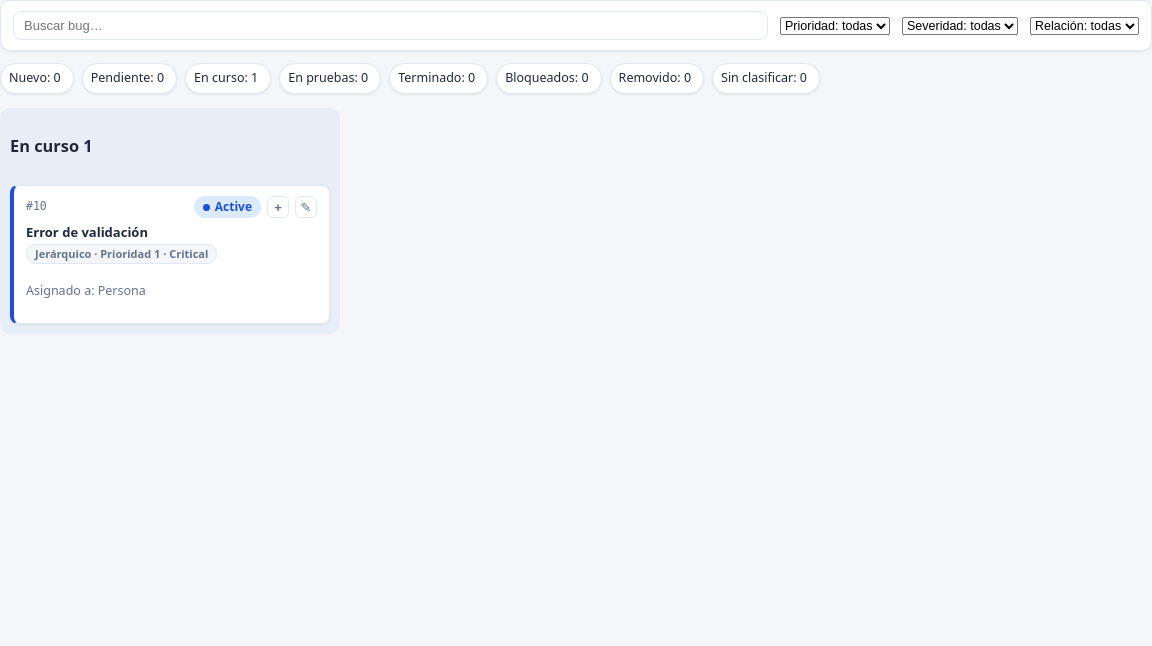
TableroBugs › envía el PATCH con los campos tocados al guardar
Step 1. Click the button named "editar bug #10 (qa)" → (306, 207), box [295, 196, 317, 218]
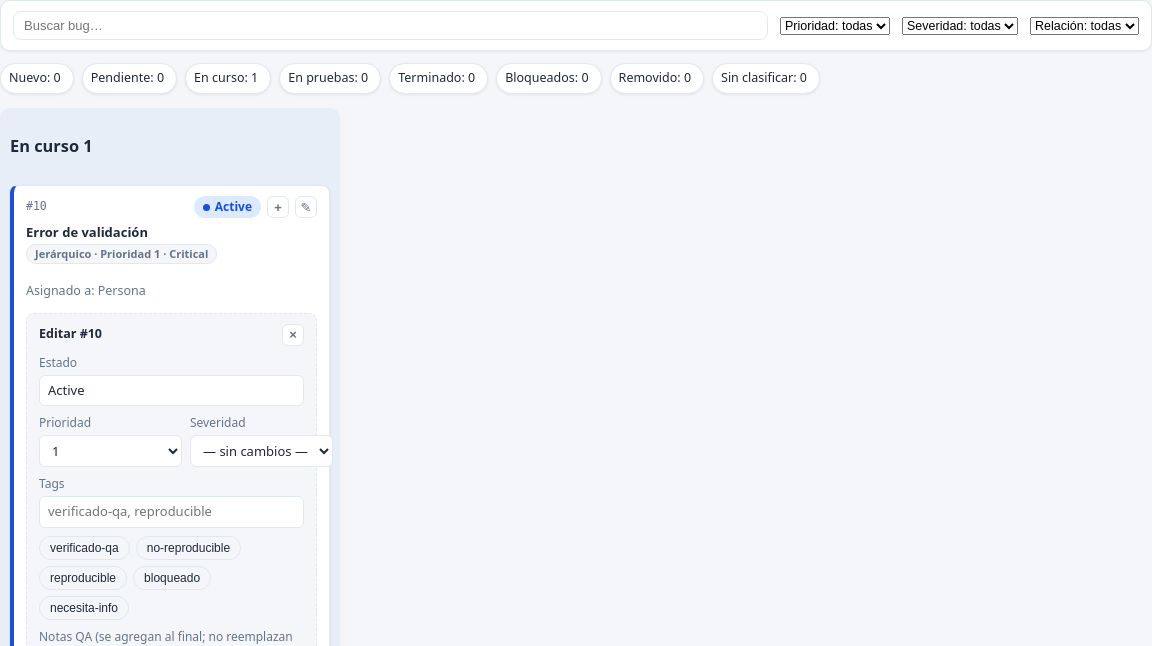
Step 2. Click the button "verificado-qa" → (84, 548), box [39, 536, 130, 560]
(page scrolled)
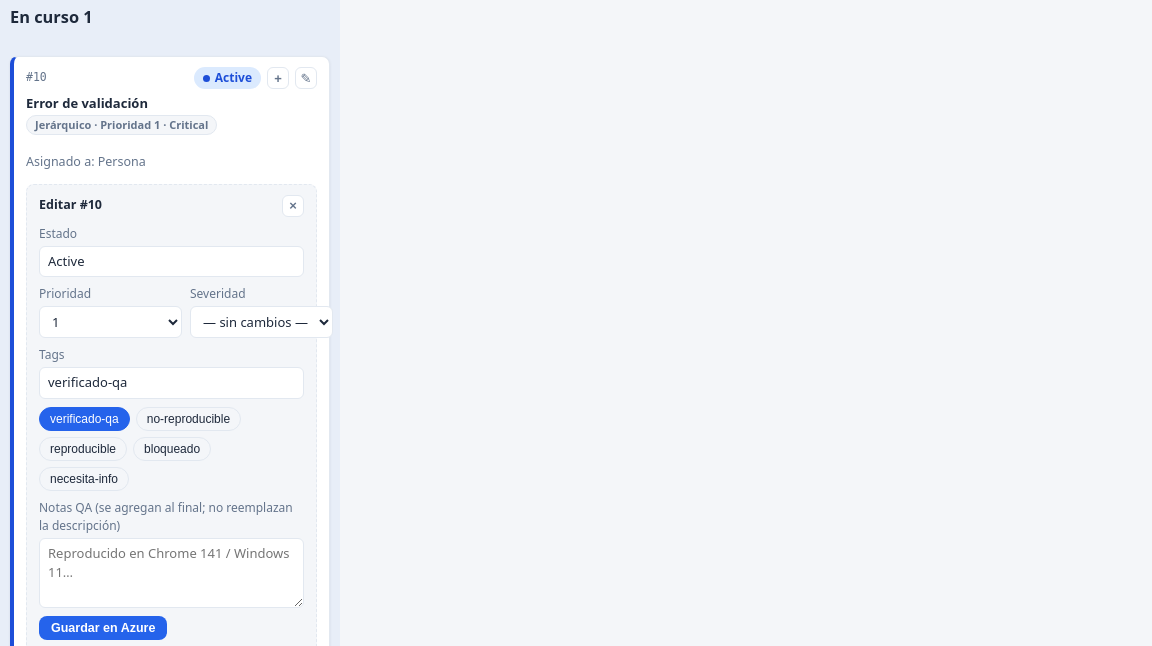
Step 3. Click the button "Guardar en Azure" → (103, 628), box [39, 616, 167, 640]
(page scrolled)
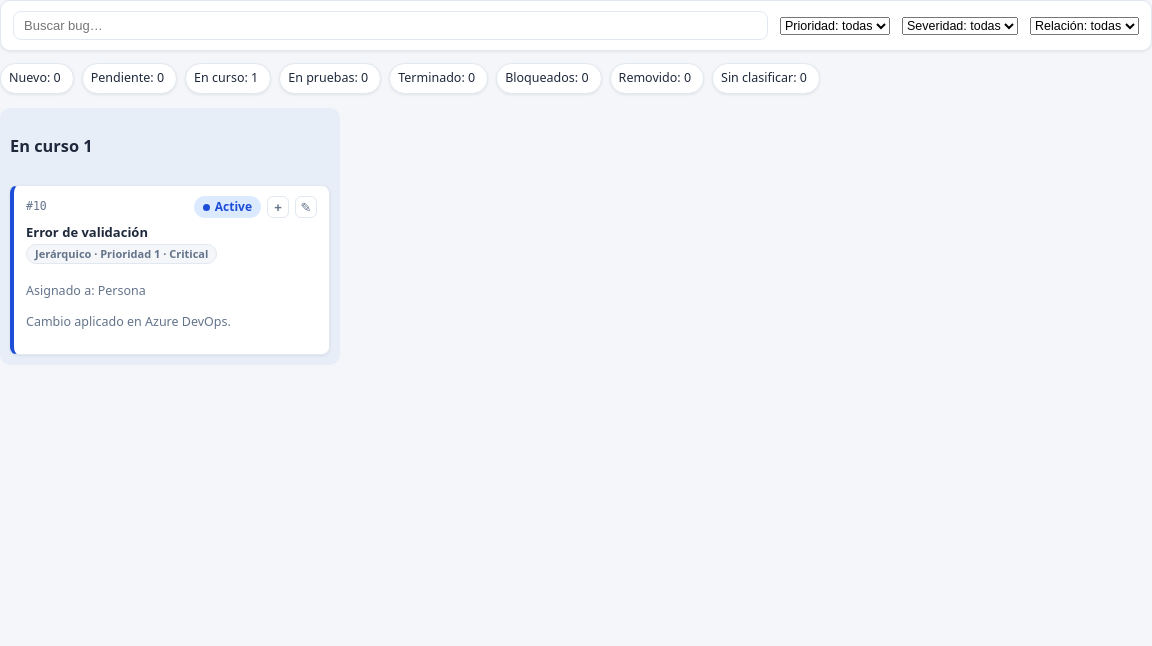
Check: the text "Cambio aplicado en Azure DevOps." is shown, box [26, 313, 231, 330]
